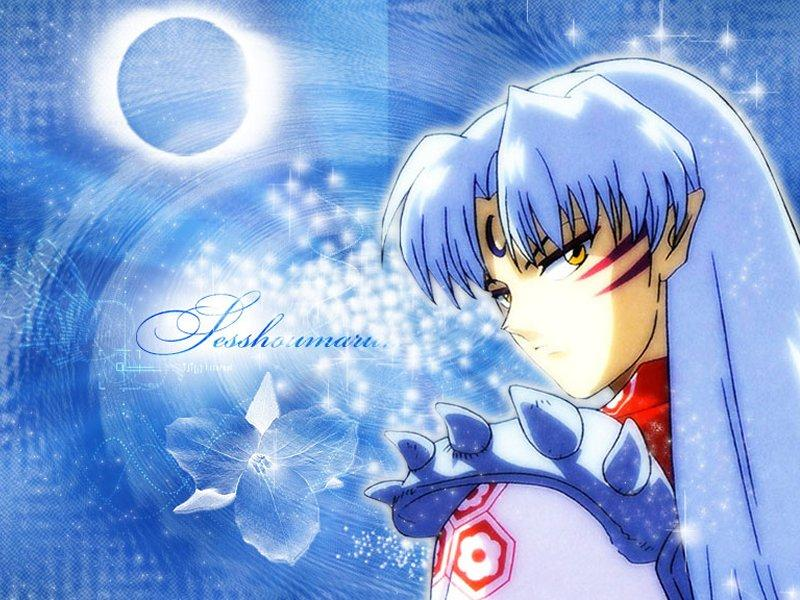sesshomaru: (359, 53, 774, 483)
